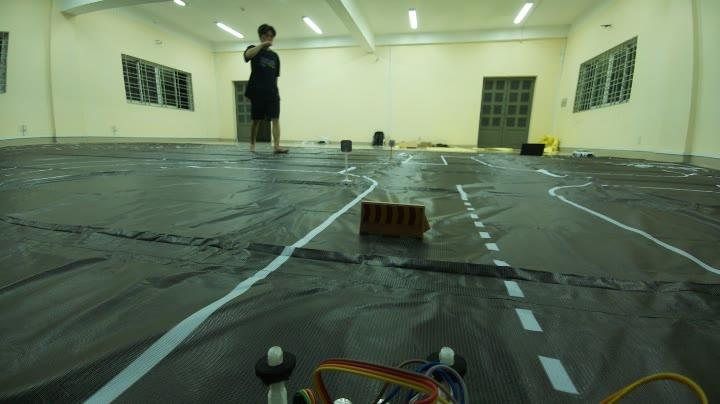roadblock: (349, 190, 436, 256)
